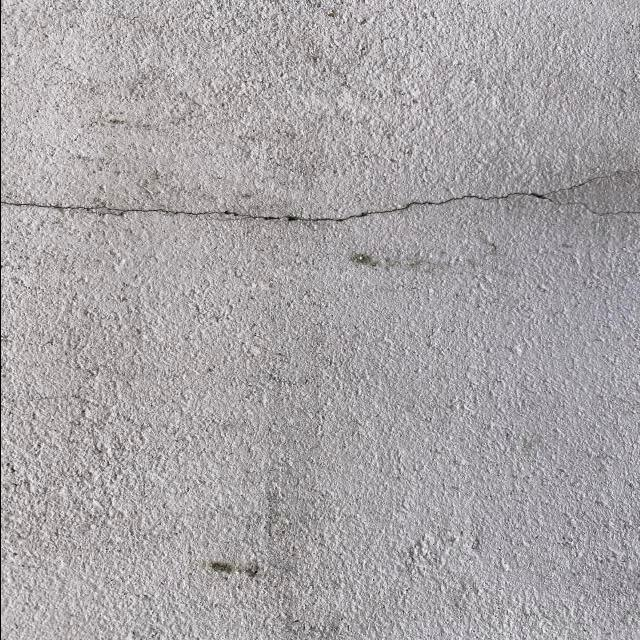SurfaceCrack: (1, 145, 640, 271)
